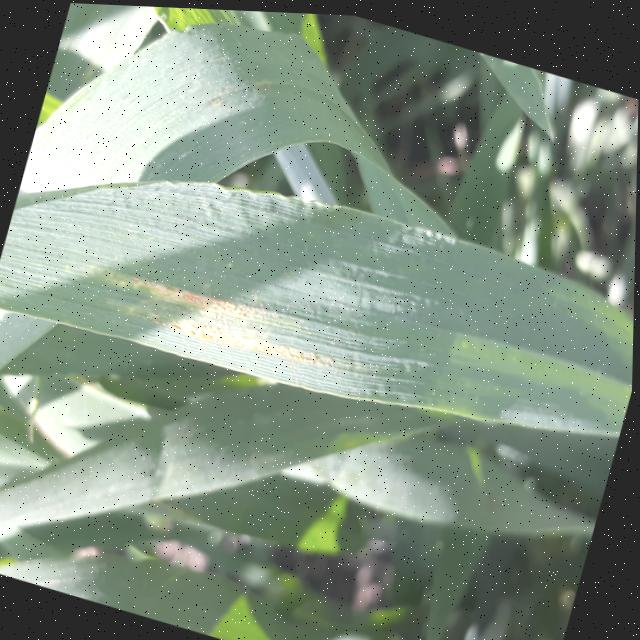yellow_rust: (0, 96, 566, 464), (196, 36, 301, 140)
